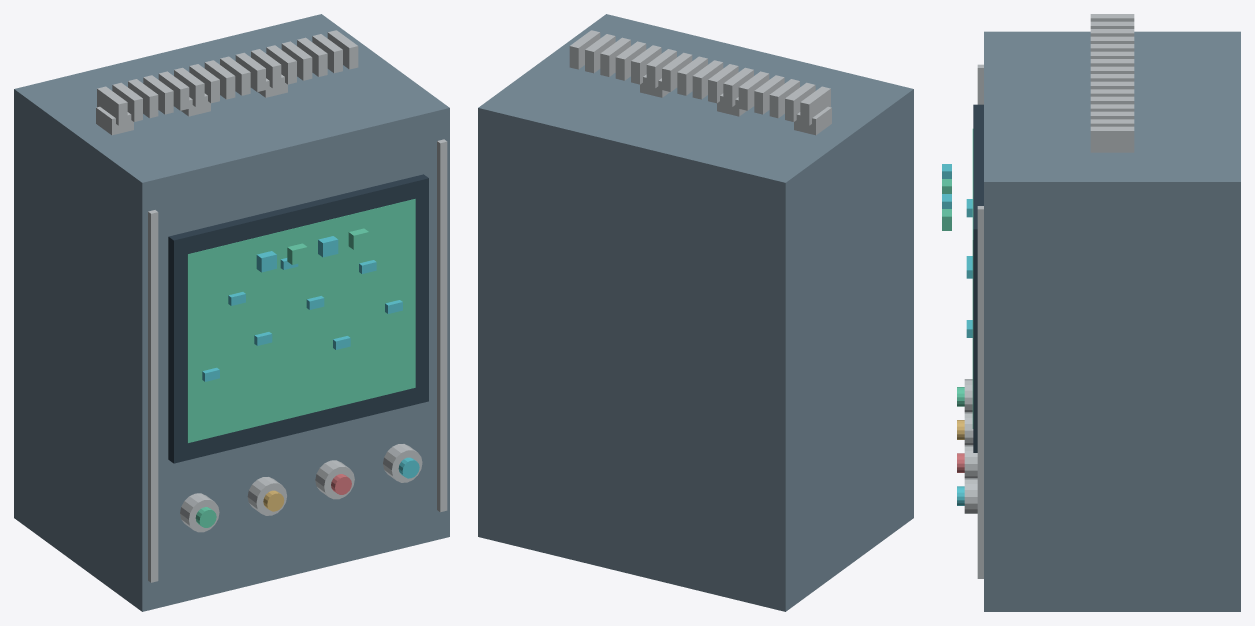
Rendered from 54_L79_ChipletInterconnectRoutingTester.glb.
3 renders of one model, left to right at view 1: azimuth 30°, elevation 25°; view 2: azimuth 150°, elevation 25°; view 3: azimuth 270°, elevation 25°, orthographic.
Parts seen in each view (by area): view 1: ChipletInterconnectRoutingTester_Node_0000, ChipletInterconnectRoutingTester_Node_0008, ChipletInterconnectRoutingTester_Node_0007, ChipletInterconnectRoutingTester_Node_0005, ChipletInterconnectRoutingTester_Node_0006, ChipletInterconnectRoutingTester_Node_0021, ChipletInterconnectRoutingTester_Node_0019, ChipletInterconnectRoutingTester_Node_0017, ChipletInterconnectRoutingTester_Node_0023, ChipletInterconnectRoutingTester_Node_0028, ChipletInterconnectRoutingTester_Node_0032, ChipletInterconnectRoutingTester_Node_0043 (+14 smaller); view 2: ChipletInterconnectRoutingTester_Node_0000, ChipletInterconnectRoutingTester_Node_0028, ChipletInterconnectRoutingTester_Node_0032, ChipletInterconnectRoutingTester_Node_0043, ChipletInterconnectRoutingTester_Node_0035, ChipletInterconnectRoutingTester_Node_0040, ChipletInterconnectRoutingTester_Node_0036, ChipletInterconnectRoutingTester_Node_0041, ChipletInterconnectRoutingTester_Node_0031, ChipletInterconnectRoutingTester_Node_0042, ChipletInterconnectRoutingTester_Node_0030, ChipletInterconnectRoutingTester_Node_0037 (+6 smaller); view 3: ChipletInterconnectRoutingTester_Node_0000, ChipletInterconnectRoutingTester_Node_0006, ChipletInterconnectRoutingTester_Node_0007, ChipletInterconnectRoutingTester_Node_0043, ChipletInterconnectRoutingTester_Node_0008, ChipletInterconnectRoutingTester_Node_0023, ChipletInterconnectRoutingTester_Node_0021.
Boxes of the visible parts, x1,y1,x2,y2 form: ChipletInterconnectRoutingTester_Node_0000: (14,14,449,611); ChipletInterconnectRoutingTester_Node_0008: (187,199,415,442); ChipletInterconnectRoutingTester_Node_0007: (168,174,428,463); ChipletInterconnectRoutingTester_Node_0005: (148,210,158,582); ChipletInterconnectRoutingTester_Node_0006: (437,139,447,512); ChipletInterconnectRoutingTester_Node_0021: (315,460,354,499); ChipletInterconnectRoutingTester_Node_0019: (247,477,286,515); ChipletInterconnectRoutingTester_Node_0017: (180,493,219,532); ChipletInterconnectRoutingTester_Node_0023: (383,444,422,482); ChipletInterconnectRoutingTester_Node_0028: (97,86,127,125); ChipletInterconnectRoutingTester_Node_0032: (158,71,189,110); ChipletInterconnectRoutingTester_Node_0043: (327,30,358,69); ChipletInterconnectRoutingTester_Node_0000: (478,14,913,611); ChipletInterconnectRoutingTester_Node_0028: (800,86,830,125); ChipletInterconnectRoutingTester_Node_0032: (738,71,769,110); ChipletInterconnectRoutingTester_Node_0043: (569,30,600,69); ChipletInterconnectRoutingTester_Node_0035: (692,60,723,99); ChipletInterconnectRoutingTester_Node_0040: (615,41,646,80); ChipletInterconnectRoutingTester_Node_0036: (677,56,707,95); ChipletInterconnectRoutingTester_Node_0041: (600,37,630,76); ChipletInterconnectRoutingTester_Node_0031: (754,75,784,114); ChipletInterconnectRoutingTester_Node_0042: (585,34,615,73); ChipletInterconnectRoutingTester_Node_0030: (769,79,799,118); ChipletInterconnectRoutingTester_Node_0037: (662,52,692,91); ChipletInterconnectRoutingTester_Node_0000: (984,31,1240,611); ChipletInterconnectRoutingTester_Node_0006: (977,206,983,578); ChipletInterconnectRoutingTester_Node_0007: (973,104,983,452); ChipletInterconnectRoutingTester_Node_0043: (1090,126,1134,152); ChipletInterconnectRoutingTester_Node_0008: (972,129,973,428); ChipletInterconnectRoutingTester_Node_0023: (964,478,977,513); ChipletInterconnectRoutingTester_Node_0021: (964,445,977,478).
Bounding box in the file's own units: 0.9 × 1.29 × 0.756.
